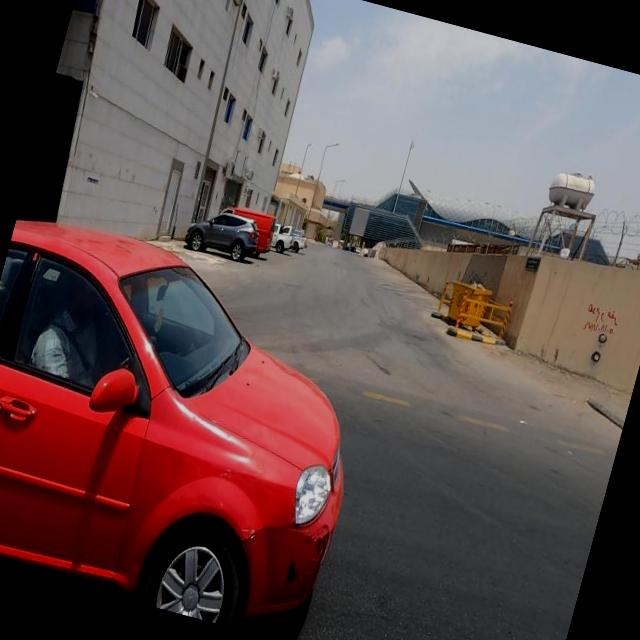debris: (535, 257, 640, 386)
